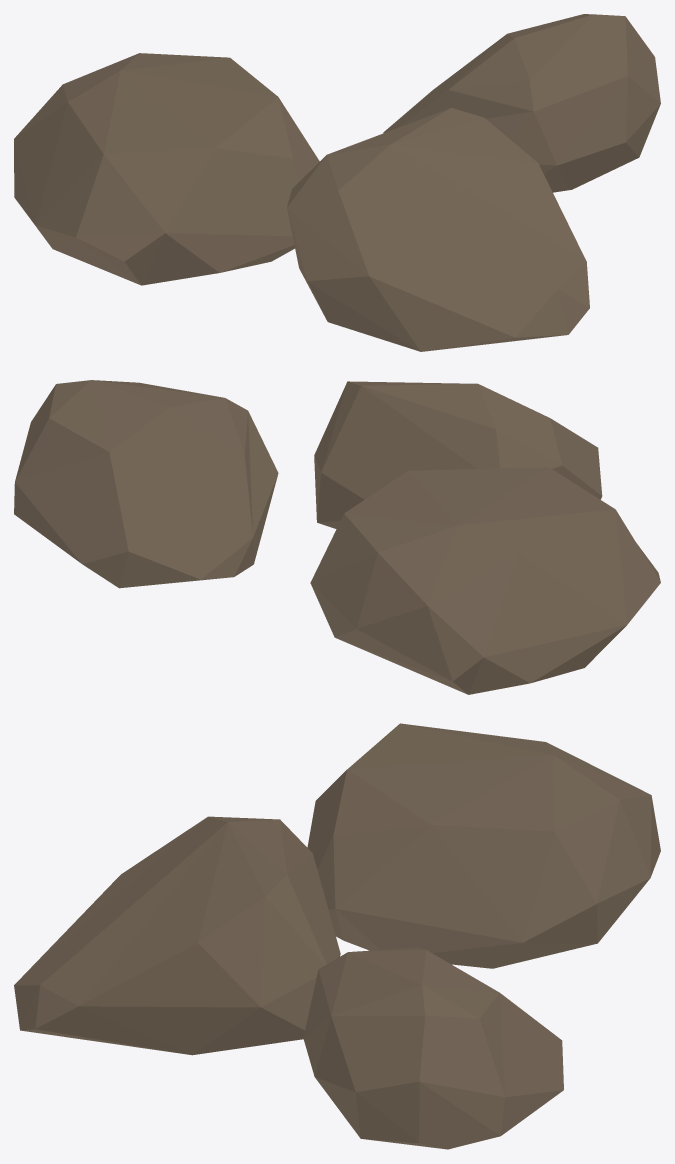
The model's file is desert_SM_Env_Rock_Pebbles_04.gltf.
3 renders of one model, top to bottom at view 1: azimuth 30°, elevation 25°; view 2: azimuth 150°, elevation 25°; view 3: azimuth 270°, elevation 25°, orthographic. The views are drawn at different scales.
Parts seen in each view (by area): view 1: SM_Env_Rock_Pebbles_04; view 2: SM_Env_Rock_Pebbles_04; view 3: SM_Env_Rock_Pebbles_04.
Boxes of the visible parts, x1,y1,x2,y2 form: SM_Env_Rock_Pebbles_04: [14, 14, 660, 351]; SM_Env_Rock_Pebbles_04: [14, 380, 660, 694]; SM_Env_Rock_Pebbles_04: [14, 723, 660, 1149].
Bounding box in the file's own units: 0.3927 × 0.0943 × 0.3265.
Materials: 1 (1 with a texture image).
